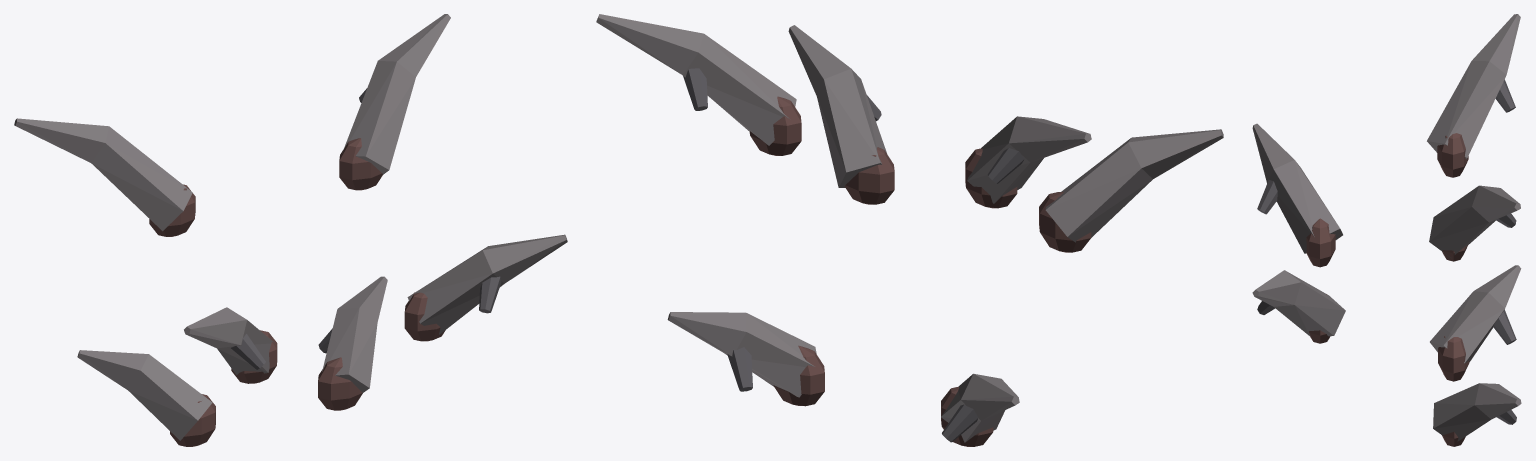
The model's file is implants_male_barbs.obj.
3 views of the same model, side by side, from view 1: azimuth 30°, elevation 25°; view 2: azimuth 150°, elevation 25°; view 3: azimuth 270°, elevation 25° (orthographic). The views are drawn at different scales.
Parts seen in each view (by area): view 1: implants_male_barbs; view 2: implants_male_barbs; view 3: implants_male_barbs.
Part boxes in pixels (left/top/right/bottom): implants_male_barbs: left=14, top=14, right=567, bottom=446; implants_male_barbs: left=596, top=14, right=1223, bottom=446; implants_male_barbs: left=1252, top=14, right=1521, bottom=446.
Bounding box in the file's own units: 0.7197 × 0.5314 × 0.4262.
